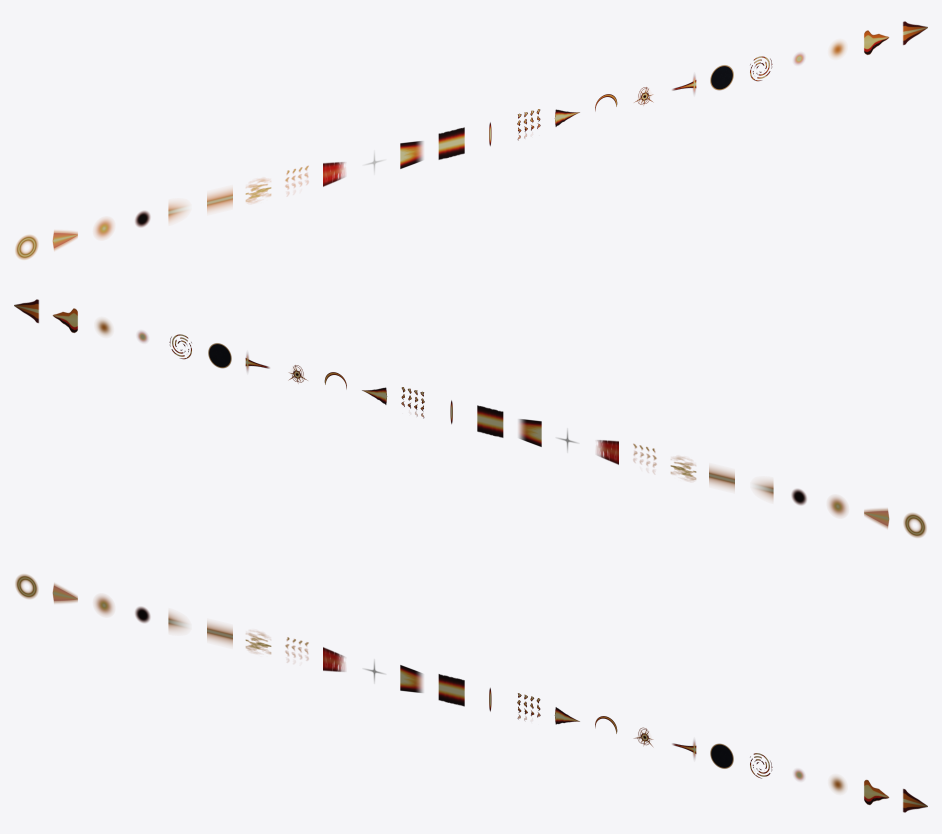
Rendered from StarburstVFX.glb.
3 views of the same model, one above another, from view 1: azimuth 30°, elevation 25°; view 2: azimuth 150°, elevation 25°; view 3: azimuth 330°, elevation 25° (orthographic).
Visible parts, largest first — view 1: Tex_SlashStrip, Tex_Trail; view 2: Tex_SlashStrip, Tex_Trail; view 3: Tex_SlashStrip, Tex_Trail.
Part boxes in pixels (x1,y1,x2,y2): Tex_SlashStrip: (438, 127, 464, 159); Tex_Trail: (400, 141, 422, 168); Tex_SlashStrip: (477, 405, 503, 437); Tex_Trail: (519, 419, 541, 446); Tex_SlashStrip: (438, 674, 464, 706); Tex_Trail: (400, 665, 422, 692).
Size of the model in its own units: 7.1 by 0.2 by 0.
Materials: 24 (24 with a texture image).
